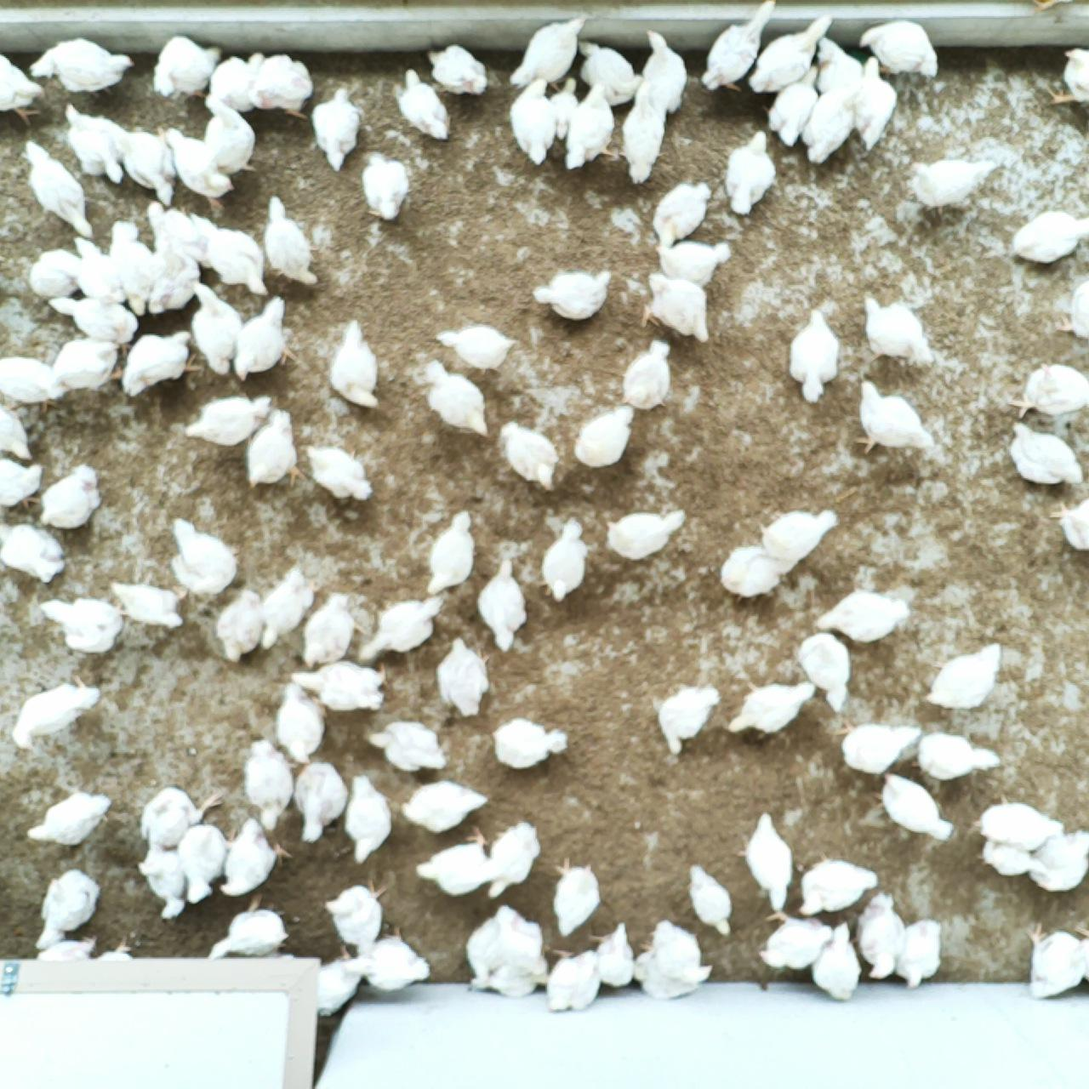chicken: (18, 139, 96, 241), (10, 672, 104, 752), (698, 0, 778, 94), (26, 36, 138, 101), (748, 13, 834, 95), (851, 378, 936, 458), (144, 200, 202, 316), (734, 808, 795, 915), (342, 924, 434, 994), (163, 125, 237, 212), (168, 514, 243, 599), (812, 584, 914, 646), (506, 15, 589, 91), (872, 770, 957, 844), (218, 815, 293, 898), (298, 589, 372, 673), (358, 594, 448, 663), (859, 292, 939, 369), (971, 789, 1065, 854), (234, 294, 301, 384), (414, 822, 494, 897), (1003, 419, 1088, 489), (905, 155, 1002, 216), (33, 866, 102, 951), (796, 850, 881, 919), (638, 270, 713, 348), (618, 77, 671, 187), (261, 193, 323, 287), (120, 327, 202, 398), (44, 298, 141, 358), (422, 359, 492, 442), (786, 306, 844, 406), (208, 892, 292, 961), (725, 675, 818, 737), (139, 784, 225, 851), (801, 80, 865, 170), (63, 101, 129, 188), (287, 659, 391, 714), (326, 318, 386, 413), (924, 641, 1003, 713), (244, 408, 308, 495), (475, 555, 531, 654), (187, 280, 244, 377), (829, 717, 924, 775), (292, 756, 351, 849), (652, 681, 723, 757), (36, 596, 125, 656), (574, 36, 645, 111), (723, 127, 780, 220), (26, 791, 114, 851), (240, 738, 295, 834), (636, 919, 716, 985), (856, 18, 941, 80), (183, 391, 275, 448), (1009, 206, 1089, 271), (561, 79, 616, 173), (1021, 918, 1084, 1000), (323, 877, 390, 954), (399, 778, 489, 835), (150, 33, 224, 102), (434, 637, 494, 722), (849, 54, 900, 154), (496, 417, 562, 494), (535, 516, 592, 605), (756, 908, 834, 973), (198, 93, 259, 176), (851, 891, 907, 981), (259, 564, 317, 650), (795, 630, 853, 716), (342, 770, 395, 864), (488, 714, 571, 774), (308, 87, 366, 172), (178, 820, 236, 905), (1007, 358, 1089, 418), (274, 680, 331, 766), (602, 508, 691, 563), (485, 818, 543, 902), (759, 506, 841, 565), (247, 52, 317, 121), (549, 855, 605, 941), (436, 320, 522, 376), (120, 125, 178, 208), (910, 731, 1004, 782), (300, 440, 376, 503), (533, 267, 617, 324), (46, 335, 124, 396), (392, 66, 453, 144), (715, 543, 793, 604), (652, 179, 717, 252), (508, 76, 560, 167), (425, 508, 478, 597), (204, 226, 271, 296), (38, 460, 104, 531), (107, 219, 155, 316), (809, 920, 865, 1003), (543, 942, 603, 1019), (314, 941, 371, 1021), (489, 903, 551, 976), (571, 402, 637, 470), (630, 939, 701, 1002), (367, 719, 448, 773), (0, 520, 67, 585), (108, 577, 190, 630), (765, 65, 818, 147), (640, 26, 688, 115), (620, 337, 677, 411), (1029, 824, 1089, 894), (70, 233, 128, 304), (213, 588, 267, 664), (685, 859, 736, 938), (359, 149, 413, 223), (137, 843, 188, 921), (0, 356, 67, 415), (650, 241, 734, 288), (895, 916, 946, 993), (205, 50, 267, 113), (587, 919, 641, 991), (424, 44, 492, 99), (164, 208, 222, 269), (0, 52, 45, 130), (468, 961, 552, 1001), (976, 836, 1048, 882), (1044, 41, 1089, 113), (812, 35, 864, 96), (26, 245, 84, 298), (464, 913, 504, 989), (1052, 269, 1089, 339), (0, 455, 46, 511), (1048, 495, 1089, 554), (547, 74, 582, 143), (0, 398, 36, 462), (34, 933, 98, 963)
